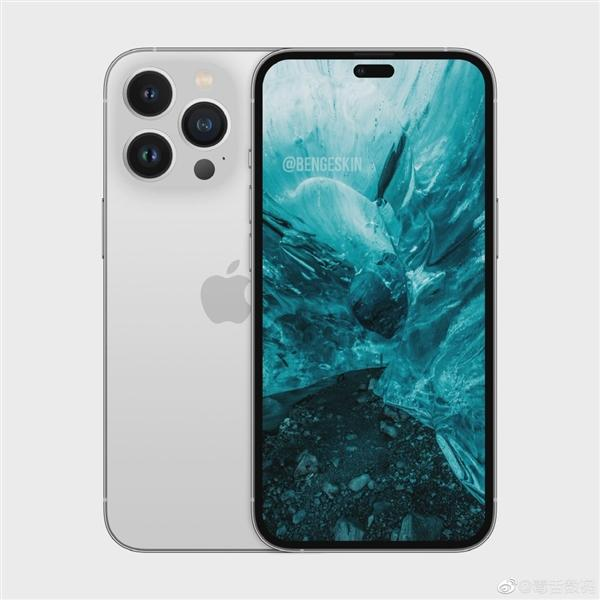-iphone12: (86, 43, 517, 558)
